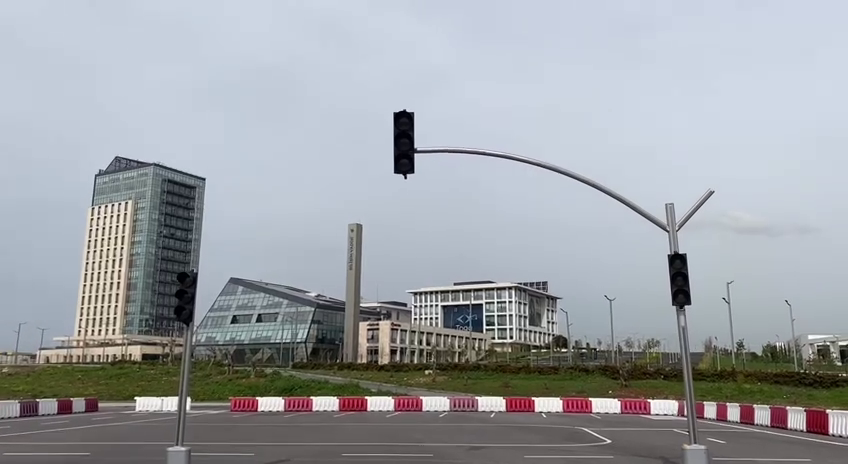trafficLight: (389, 105, 420, 182), (663, 248, 695, 312), (170, 267, 202, 329)
